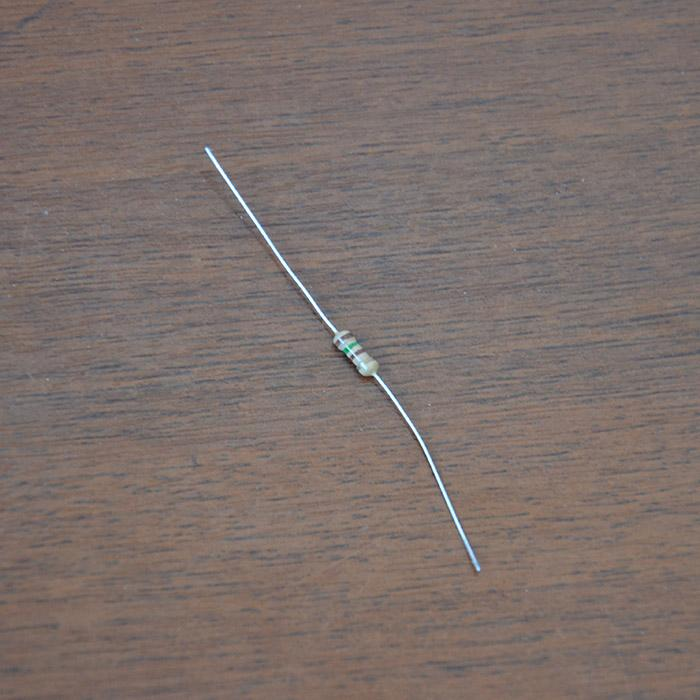resistor: (330, 328, 378, 377)
